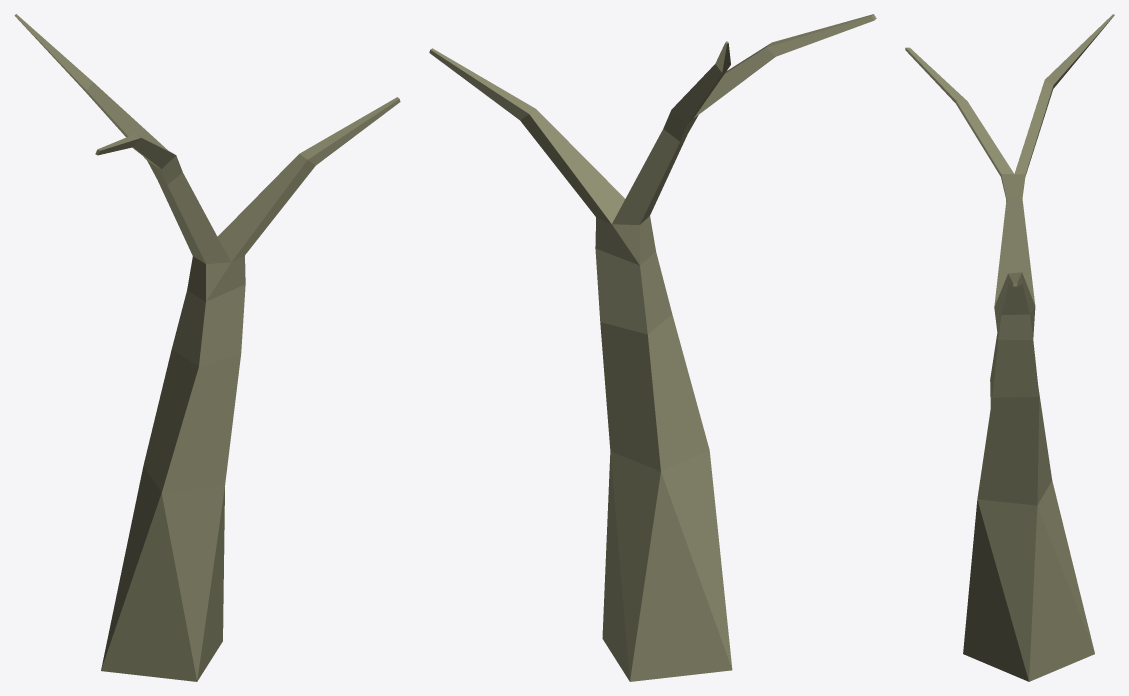
The model's file is Dead_Tree_m_BT_06.fbx.
3 renders of one model, left to right at view 1: azimuth 30°, elevation 25°; view 2: azimuth 150°, elevation 25°; view 3: azimuth 270°, elevation 25°, orthographic. The views are drawn at different scales.
Parts seen in each view (by area): view 1: Dead_Tree_m_BT_06; view 2: Dead_Tree_m_BT_06; view 3: Dead_Tree_m_BT_06.
Boxes of the visible parts, box(x1,y1,x2,y2) form: Dead_Tree_m_BT_06: box(14, 14, 400, 681); Dead_Tree_m_BT_06: box(429, 14, 876, 681); Dead_Tree_m_BT_06: box(905, 14, 1114, 681).
Bounding box in the file's own units: 290 × 486 × 156.
